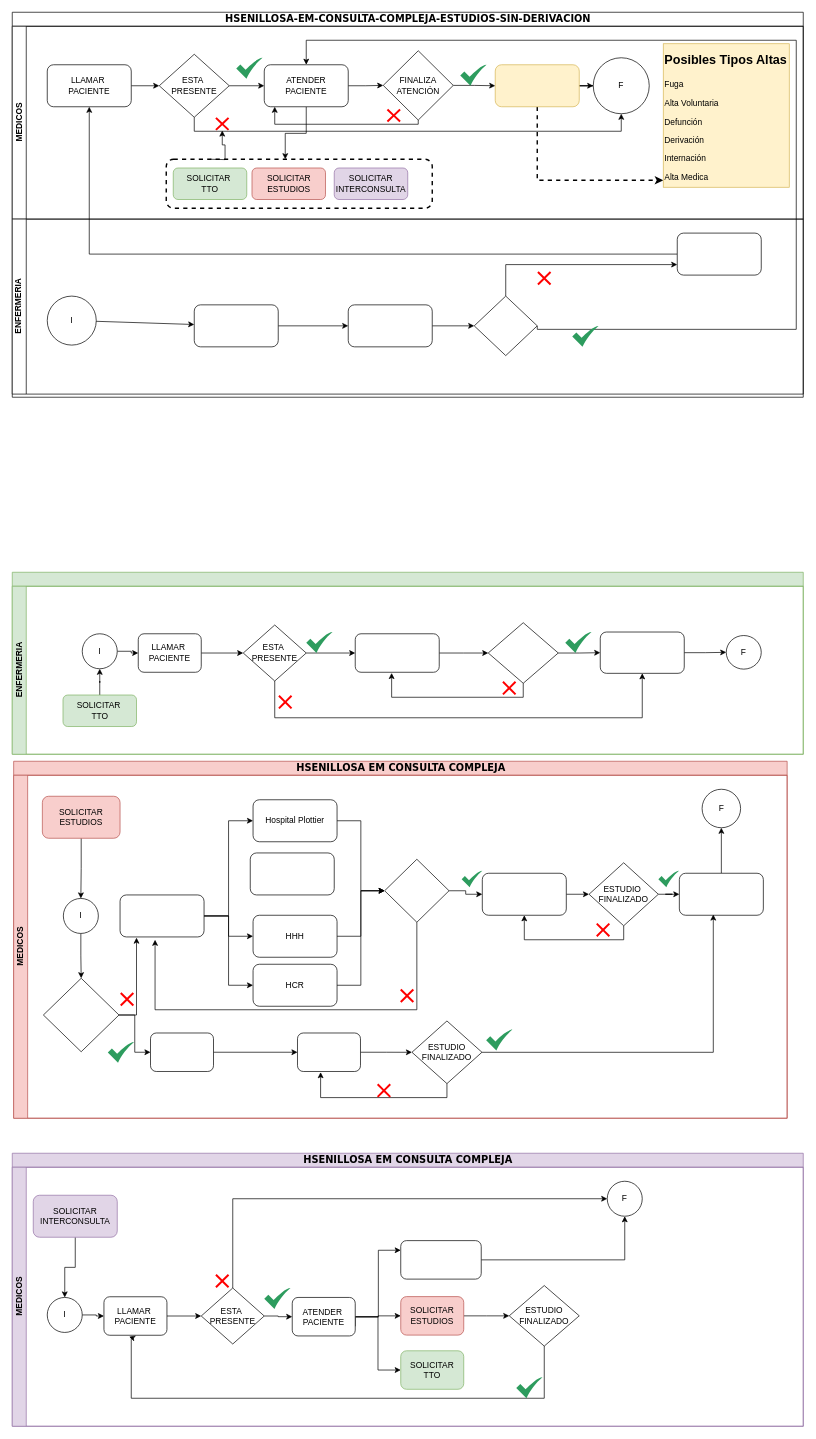
Some shapes in this 816 by 1439 pixel diagram are drawn without their labels. Each missing label, with the centre of its shape:
AVISAR AL MEDICO: point (642, 652)
AVISO MEDICO: point (721, 894)
Centenario: point (292, 873)
ESPERAR ATENCION MEDICA: point (719, 253)
ESPERAR ESTUDIO: point (328, 1051)
FINALIZA INTERCONSULTA: point (440, 1259)
FINALIZAR ATENCIÓN: point (537, 85)
LLAMAR EFECTOR: point (161, 915)
OBTENGO EFECTOR: point (416, 890)
REALIZAR TRIAJE: point (390, 325)
REALIZAR TTO: point (397, 652)
REALIZO ESTUDIO: point (524, 894)
RECEPCIONAR PACIENTES: point (236, 325)
SE PUEDE HACER EN SENILLOSA: point (81, 1015)
Shockroom/ Respiratorio: point (505, 325)
SOLICITAR ESTUDIO: point (182, 1051)
TTO FINALIZADO: point (523, 652)
